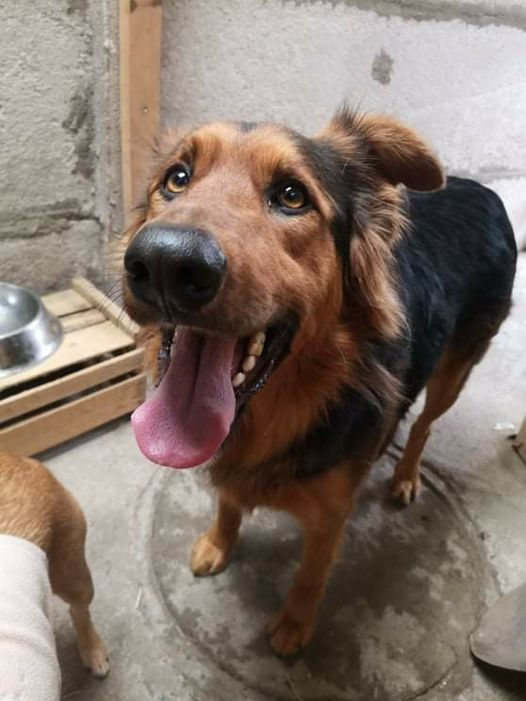dog: (109, 95, 524, 670)
